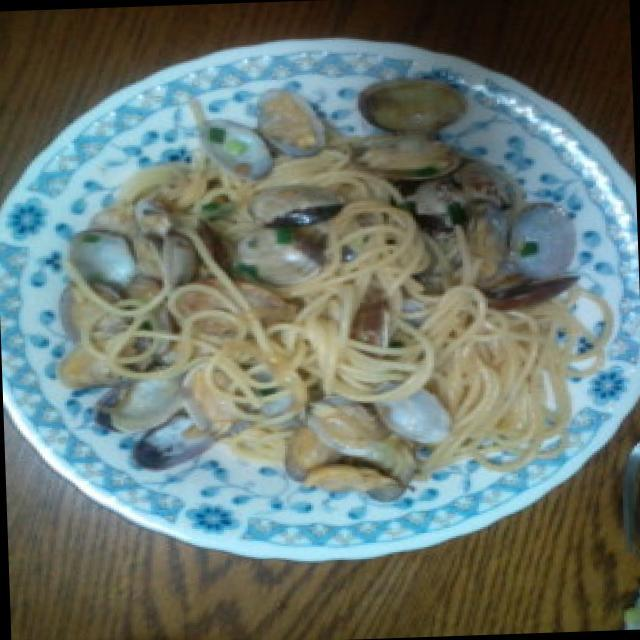Pasta: (82, 115, 565, 501)
